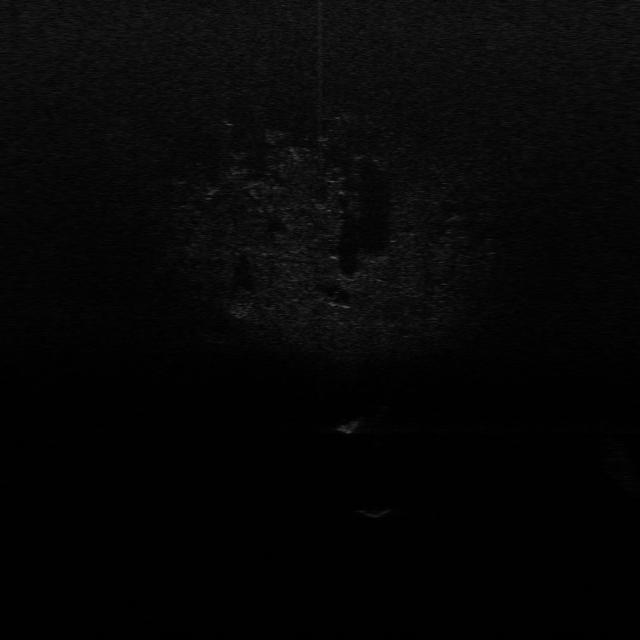cube: (356, 504, 393, 520)
square cage: (332, 414, 364, 435)
